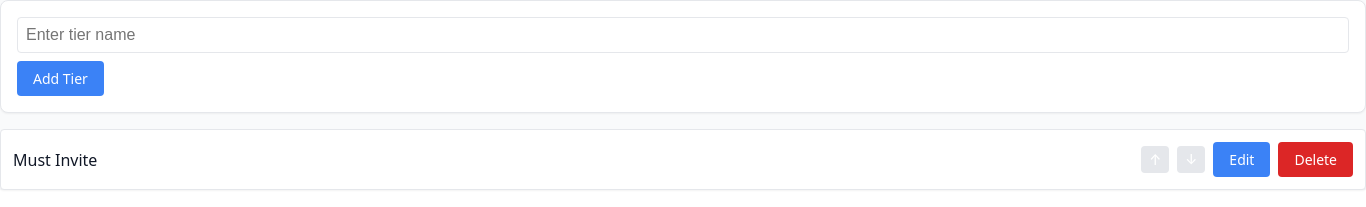
it: TierManager › cancels editing when cancel button is clicked
Start editing
Click the button "Edit".
click(1242, 160)  # box [1213, 142, 1270, 177]
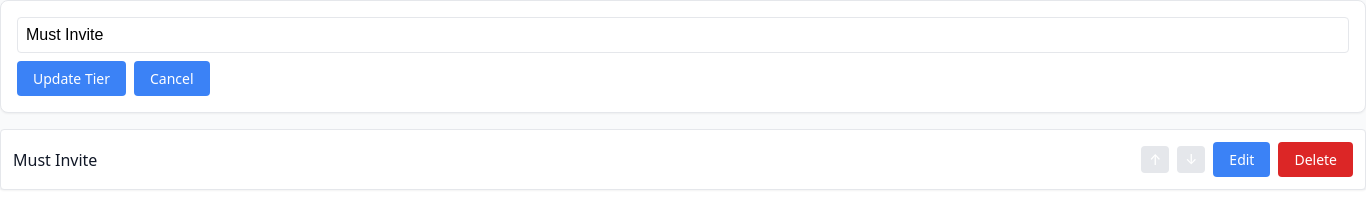
Click cancel
Click the button "Cancel".
click(172, 78)  # box [134, 61, 210, 96]
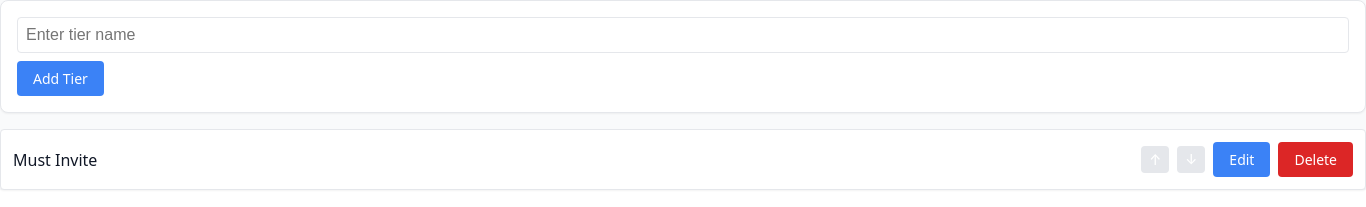
Result: the button "Add Tier" is shown at [17, 61, 104, 96]
